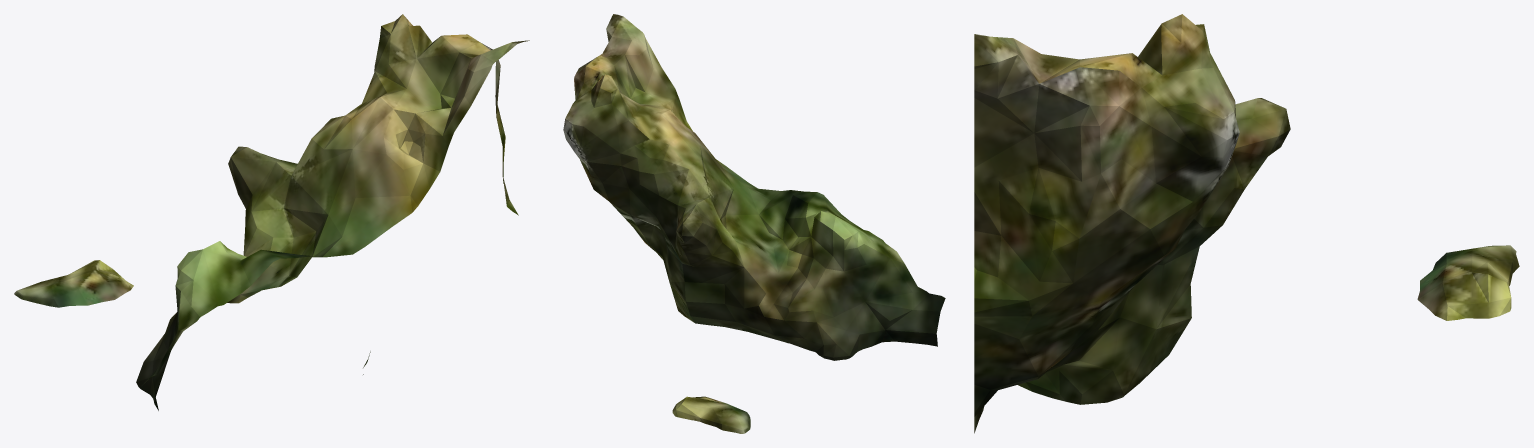
The picture shows the model from 3 angles, left to right: view 1: azimuth 30°, elevation 25°; view 2: azimuth 150°, elevation 25°; view 3: azimuth 270°, elevation 25°; orthographic projection. The views are drawn at different scales.
Bounding box in the file's own units: 0.7595 × 0.5293 × 0.5743.
Materials: 2 (2 with a texture image).
